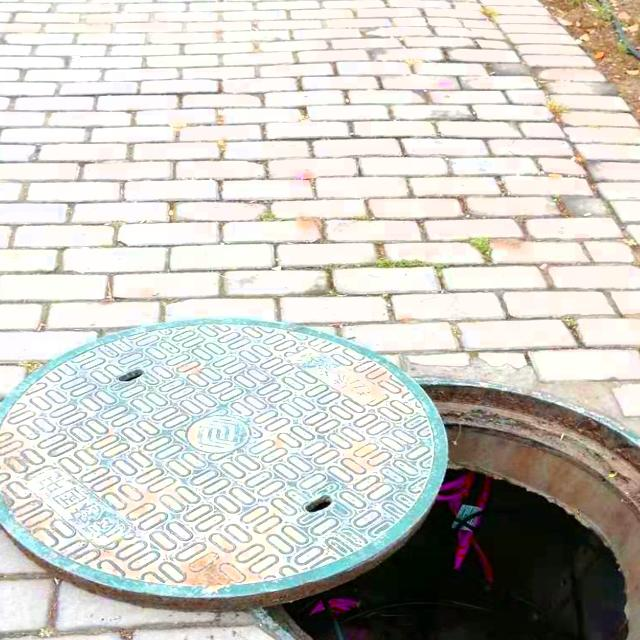uncovered: (0, 337, 640, 640)
